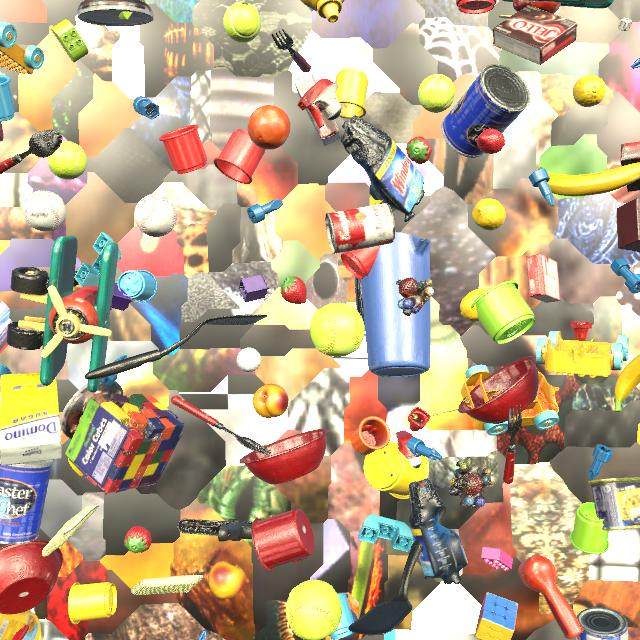ycb_002_master_chef_can: (441, 64, 530, 158), (0, 459, 53, 544)
ycb_004_sugar_box: (0, 372, 62, 466)
ycb_005_tomato_soup_can: (325, 203, 395, 254)
ycb_006_mustard_bottle: (0, 610, 44, 640), (301, 0, 344, 23)
ycb_007_tuna_fish_can: (577, 607, 629, 640)
ycb_008_pudding_box: (492, 5, 577, 65), (294, 73, 340, 146), (620, 141, 640, 192)
ycb_009_gelatin_box: (526, 254, 561, 303)
ycb_010_potted_meat_can: (588, 477, 640, 531)
ycb_011_banana: (538, 162, 640, 196), (615, 355, 640, 412)
ycb_012_strawberry: (280, 276, 307, 304), (124, 526, 151, 553), (406, 136, 432, 164), (477, 129, 505, 154)
ycb_014_lemon: (472, 198, 506, 230), (573, 75, 606, 107), (460, 289, 487, 321)
ycb_015_peach: (208, 561, 245, 599), (253, 384, 289, 418)
ycb_017_orange: (247, 105, 290, 150)
